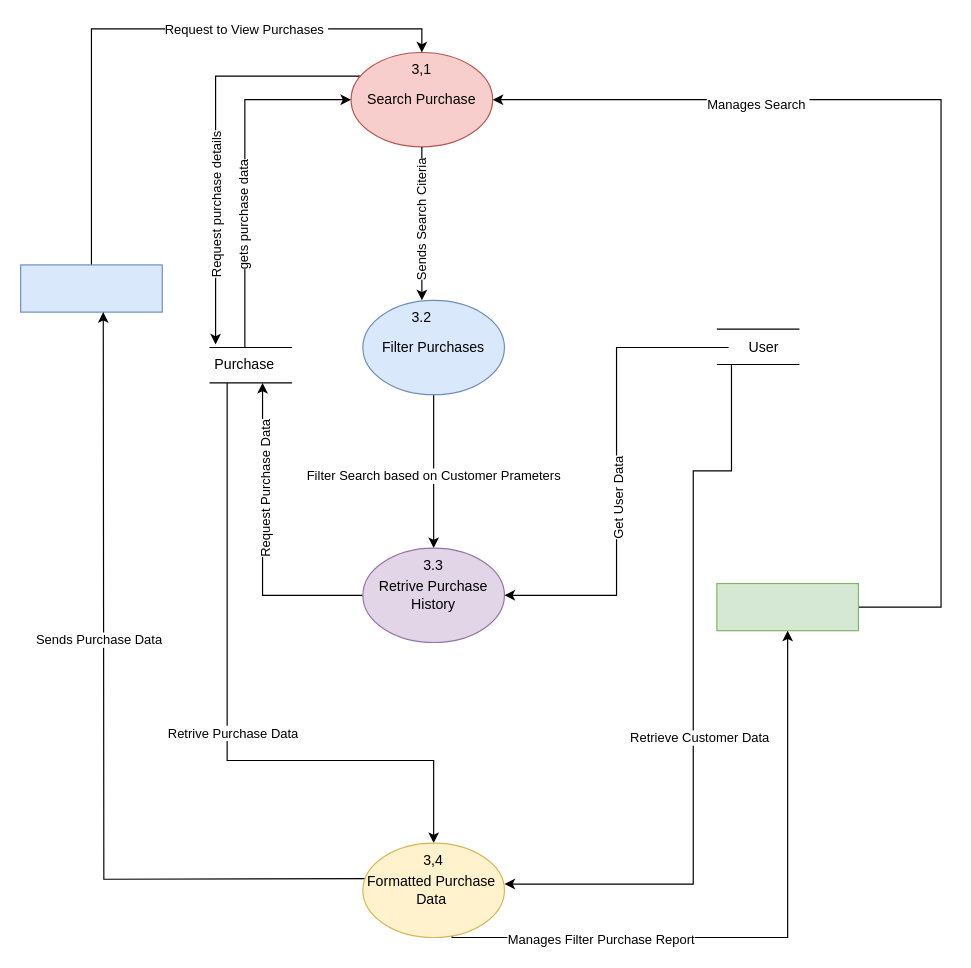
Some shapes in this 971 by 968 pixel diagram are drawn without their labels. Each missing label, with the centre of its shape:
"Admin" belongs at (x=787, y=606).
"Customer" belongs at (x=90, y=288).
